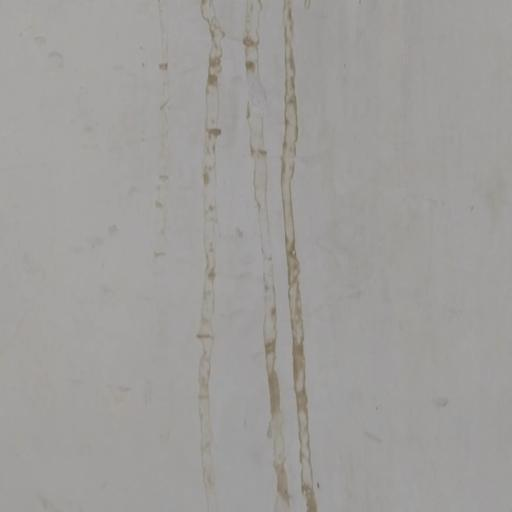stain: (148, 0, 325, 512)
